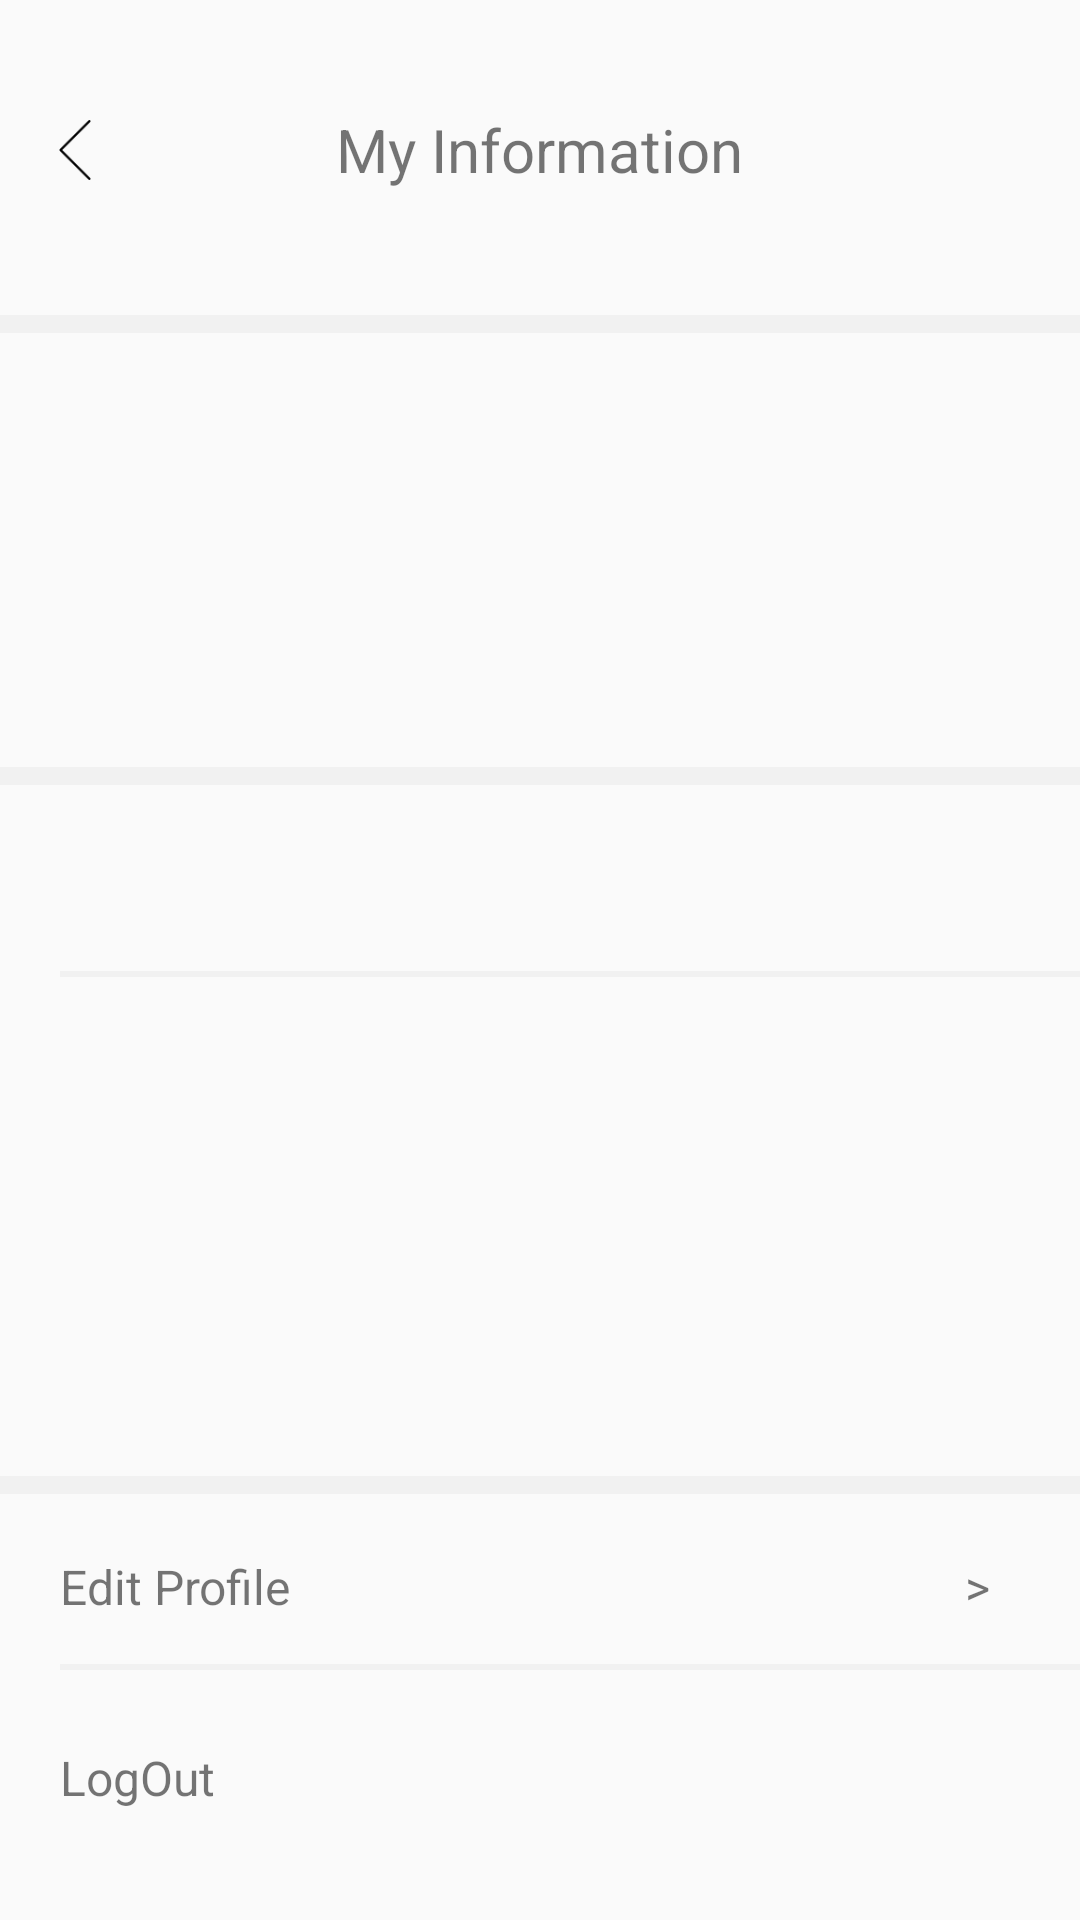

Locate icon controls on the screen. Image size 1080w x 1920h, boxes as bbox=(x1, y1, x2, y2).
arrow: bbox=(59, 120, 91, 180)
